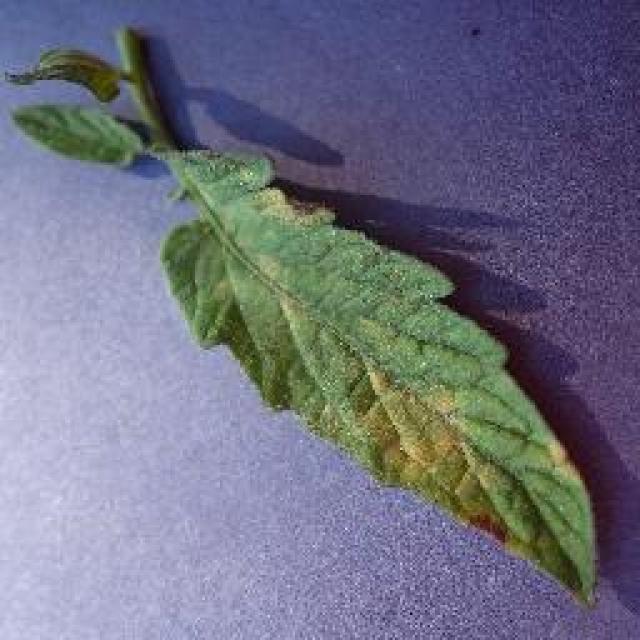Tomato___Leaf_Mold: (2, 28, 605, 610)
